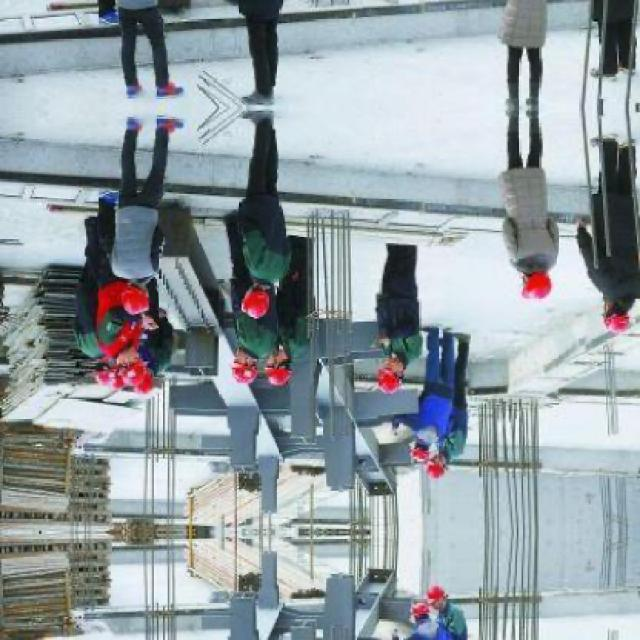con casco: (206, 260, 288, 320), (344, 354, 414, 401), (105, 260, 151, 308), (215, 348, 262, 386), (522, 256, 560, 299), (123, 360, 178, 388), (94, 352, 136, 387), (386, 430, 430, 463), (609, 301, 640, 347), (398, 456, 454, 480), (260, 356, 301, 387), (122, 357, 147, 387)
